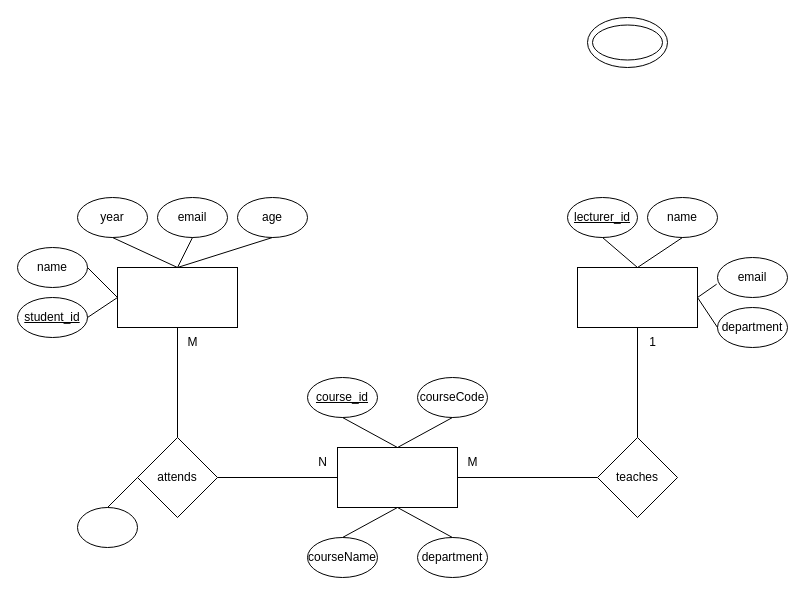
Image size: 805x595. Some labels were removed from this diagram. The centre of each missing label's shape, as x and y in pixels:
counselor: point (627, 42)
course: point (397, 477)
lecturer: point (637, 297)
result: point (107, 527)
student: point (177, 297)
